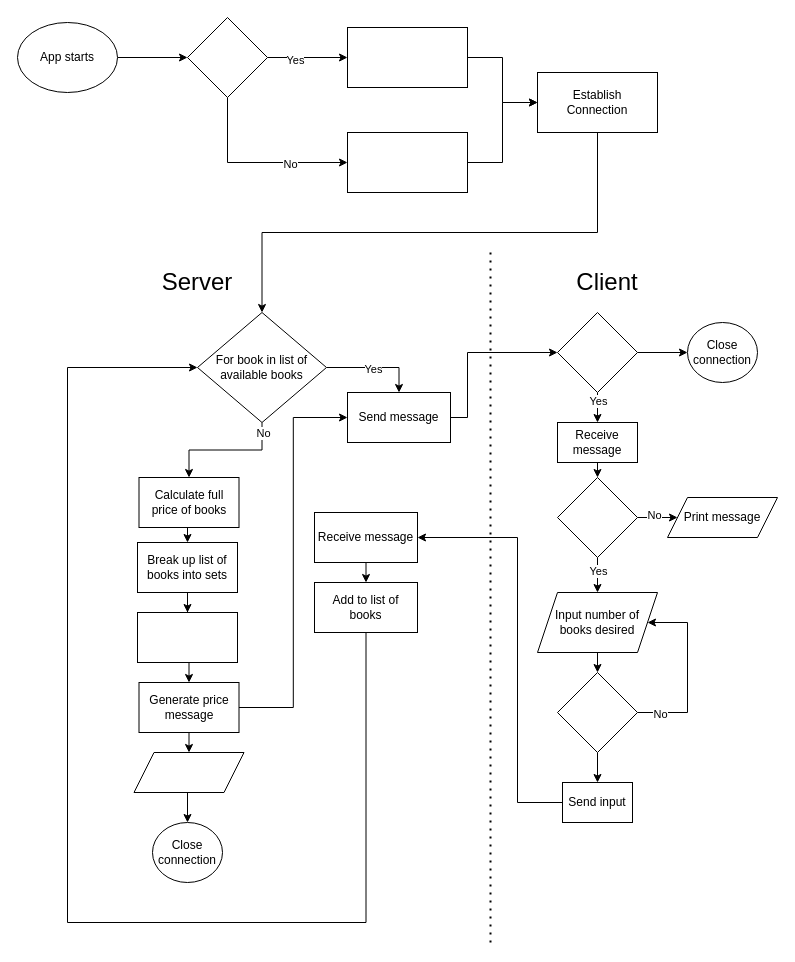
The diagram is 795 pixels wide and 962 high, and some of its shapes have lost their labels. Each missing label, with the box of its shape:
"How " in message?: (556, 476, 638, 558)
Calculate discounted price of books: (136, 612, 238, 662)
Connect: (346, 132, 468, 192)
for i in 6: (556, 312, 638, 392)
Input is a number 0 or greater: (556, 672, 638, 752)
Listen: (346, 26, 468, 88)
Print book list and price: (133, 752, 244, 792)
Server on client?: (186, 16, 268, 98)
